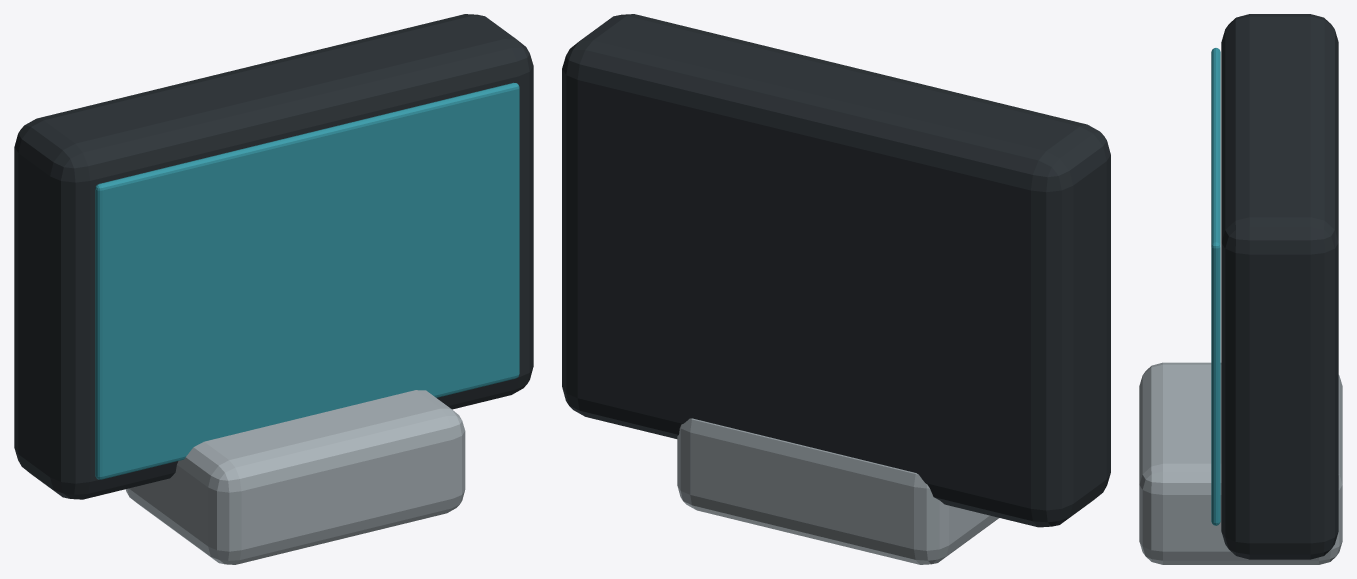
Rendered from helm_display.glb.
3 renders of one model, left to right at view 1: azimuth 30°, elevation 25°; view 2: azimuth 150°, elevation 25°; view 3: azimuth 270°, elevation 25°, orthographic. The views are drawn at different scales.
Visible parts, largest first — view 1: Display glass, Display enclosure, Screen stand; view 2: Display enclosure, Screen stand; view 3: Display enclosure, Screen stand, Display glass.
Boxes of the visible parts, x1,y1,x2,y2 form: Display glass: (95,82,519,479); Display enclosure: (14,14,533,499); Screen stand: (126,390,465,564); Display enclosure: (562,14,1110,527); Screen stand: (677,418,998,564); Display enclosure: (1221,14,1338,559); Screen stand: (1139,362,1342,564); Display glass: (1211,48,1220,525).
Bounding box in the file's own units: 0.34 × 0.28 × 0.13.
